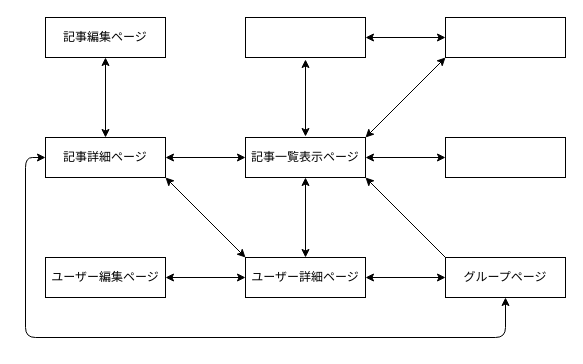
The diagram is 583 pixels wide and 364 high, and some of its shapes have lost their labels. Here are the shapes that lost their labels. From the top down, the centre of each, then its label:
At (x=305, y=37): "ログインページ".
At (x=505, y=37): "新規登録ページ".
At (x=505, y=157): "記事投稿ページ".
